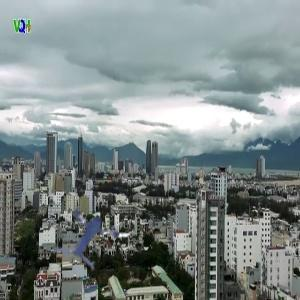drone: (48, 187, 136, 275)
